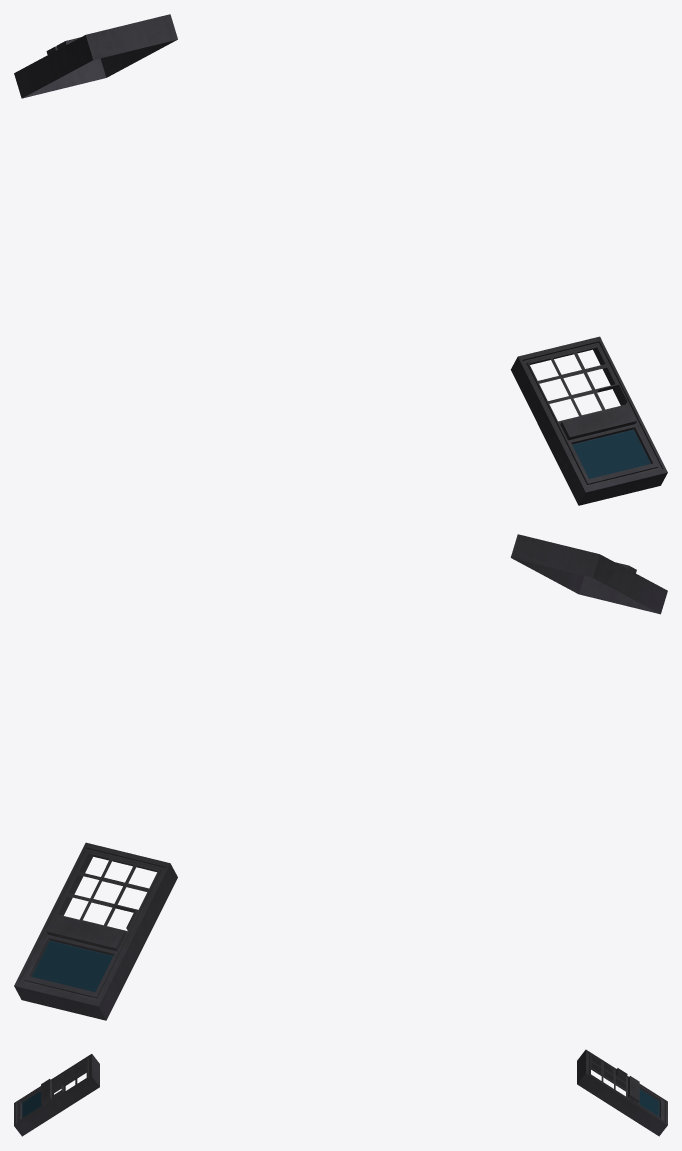
File: Table_3_Button_Panel_0.glb
3 renders of one model, top to bottom at view 1: azimuth 30°, elevation 25°; view 2: azimuth 150°, elevation 25°; view 3: azimuth 270°, elevation 25°, orthographic. The views are drawn at different scales.
Visible parts, largest first — view 1: Table_3_Control_Panels_0.001, Table_3_Control_Panels_0.003; view 2: Table_3_Control_Panels_0.003, Table_3_Control_Panels_0.001; view 3: Table_3_Control_Panels_0.003, Table_3_Control_Panels_0.001.
Part boxes in pixels (x1=…): Table_3_Control_Panels_0.001: x1=510, y1=336, x2=667, y2=505; Table_3_Control_Panels_0.003: x1=14, y1=14, x2=177, y2=98; Table_3_Control_Panels_0.003: x1=14, y1=842, x2=177, y2=1020; Table_3_Control_Panels_0.001: x1=510, y1=534, x2=667, y2=614; Table_3_Control_Panels_0.003: x1=577, y1=1049, x2=667, y2=1136; Table_3_Control_Panels_0.001: x1=14, y1=1054, x2=99, y2=1136.
Bounding box in the file's own units: 0.115 × 0.1443 × 1.34.
1 material, 1 textured.
